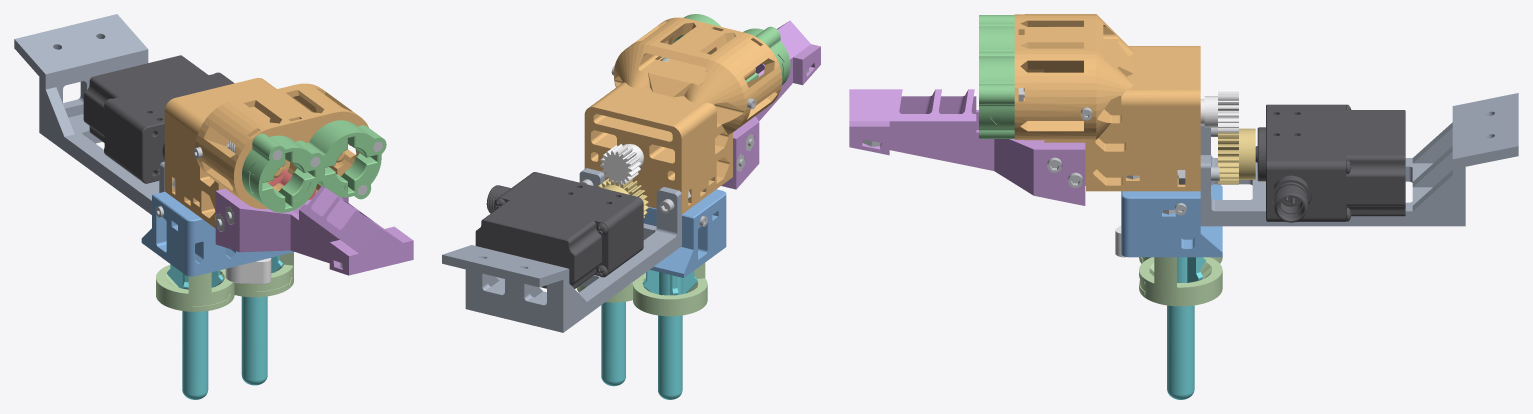
3 views of the same model, side by side, from view 1: azimuth 30°, elevation 25°; view 2: azimuth 150°, elevation 25°; view 3: azimuth 270°, elevation 25° (orthographic). The views are drawn at different scales.
Parts seen in each view (by area): view 1: v11__LV11_Torpedo_Body_1, v11__LV11_Servo_Holder_1, v11__LV11_Crossbar_Arm_1, v11__SER_20XX_Servo_1, v11__LV11_Top_Cover_2, v11__LV11_Marker_Base_1, v11__LV11_Bottom_Cover_1, v11__Marker_P83_left, v11__Marker_P83_right, v11__LV11_Marker_Shaft_1; view 2: v11__LV11_Torpedo_Body_1, v11__SER_20XX_Servo_1, v11__LV11_Servo_Holder_1, v11__LV11_Marker_Base_1, v11__LV11_Crossbar_Arm_1, v11__Marker_P83_left, v11__LV11_Bottom_Cover_1, v11__Marker_P83_right, v11__LV11_Torpedo_Shaft_1, v11__LV11_Top_Cover_2, v11__Servogear_1; view 3: v11__LV11_Torpedo_Body_1, v11__SER_20XX_Servo_1, v11__LV11_Crossbar_Arm_1, v11__LV11_Servo_Holder_1, v11__LV11_Marker_Base_1, v11__LV11_Top_Cover_2, v11__Marker_P83_right, v11__LV11_Bottom_Cover_1, v11__Servogear_1, v11__LV11_Torpedo_Shaft_1.
Part boxes in pixels (x1,y1,x2,y2): v11__LV11_Torpedo_Body_1: (164, 77, 368, 228); v11__LV11_Servo_Holder_1: (14, 14, 164, 214); v11__LV11_Crossbar_Arm_1: (215, 185, 413, 275); v11__SER_20XX_Servo_1: (83, 55, 234, 183); v11__LV11_Top_Cover_2: (242, 120, 386, 212); v11__LV11_Marker_Base_1: (141, 191, 294, 276); v11__LV11_Bottom_Cover_1: (156, 252, 293, 311); v11__Marker_P83_left: (167, 264, 223, 399); v11__Marker_P83_right: (241, 255, 282, 385); v11__LV11_Marker_Shaft_1: (225, 258, 271, 284); v11__LV11_Torpedo_Body_1: (584, 17, 782, 213); v11__SER_20XX_Servo_1: (475, 172, 643, 288); v11__LV11_Servo_Holder_1: (442, 168, 681, 332); v11__LV11_Marker_Base_1: (643, 189, 726, 277); v11__LV11_Crossbar_Arm_1: (721, 20, 820, 189); v11__Marker_P83_left: (642, 270, 697, 399); v11__LV11_Bottom_Cover_1: (576, 263, 707, 316); v11__Marker_P83_right: (601, 301, 625, 386); v11__LV11_Torpedo_Shaft_1: (600, 144, 643, 185); v11__LV11_Top_Cover_2: (663, 14, 790, 85); v11__Servogear_1: (598, 178, 648, 218); v11__LV11_Torpedo_Body_1: (1014, 14, 1200, 191); v11__SER_20XX_Servo_1: (1255, 104, 1405, 222); v11__LV11_Crossbar_Arm_1: (849, 89, 1085, 205); v11__LV11_Servo_Holder_1: (1200, 93, 1518, 226); v11__LV11_Marker_Base_1: (1121, 184, 1222, 257); v11__LV11_Top_Cover_2: (979, 15, 1014, 138); v11__Marker_P83_right: (1167, 257, 1205, 399); v11__LV11_Bottom_Cover_1: (1139, 257, 1222, 306); v11__Servogear_1: (1218, 128, 1255, 184); v11__LV11_Torpedo_Shaft_1: (1200, 91, 1238, 132).
Size of the model in its own units: 105 by 184 by 321.
